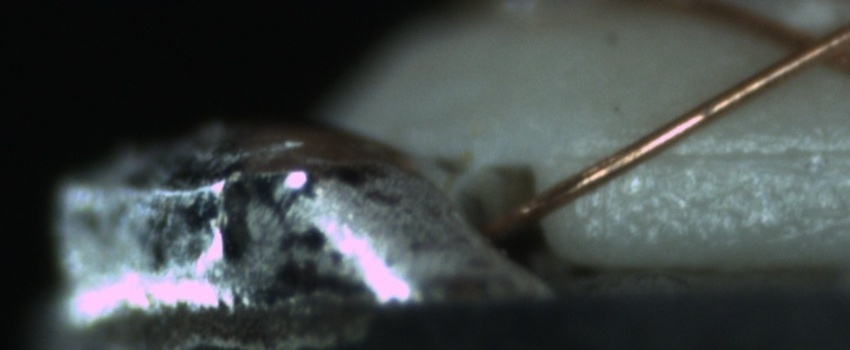CL: (767, 13, 846, 78)
DL: (612, 119, 848, 186)
